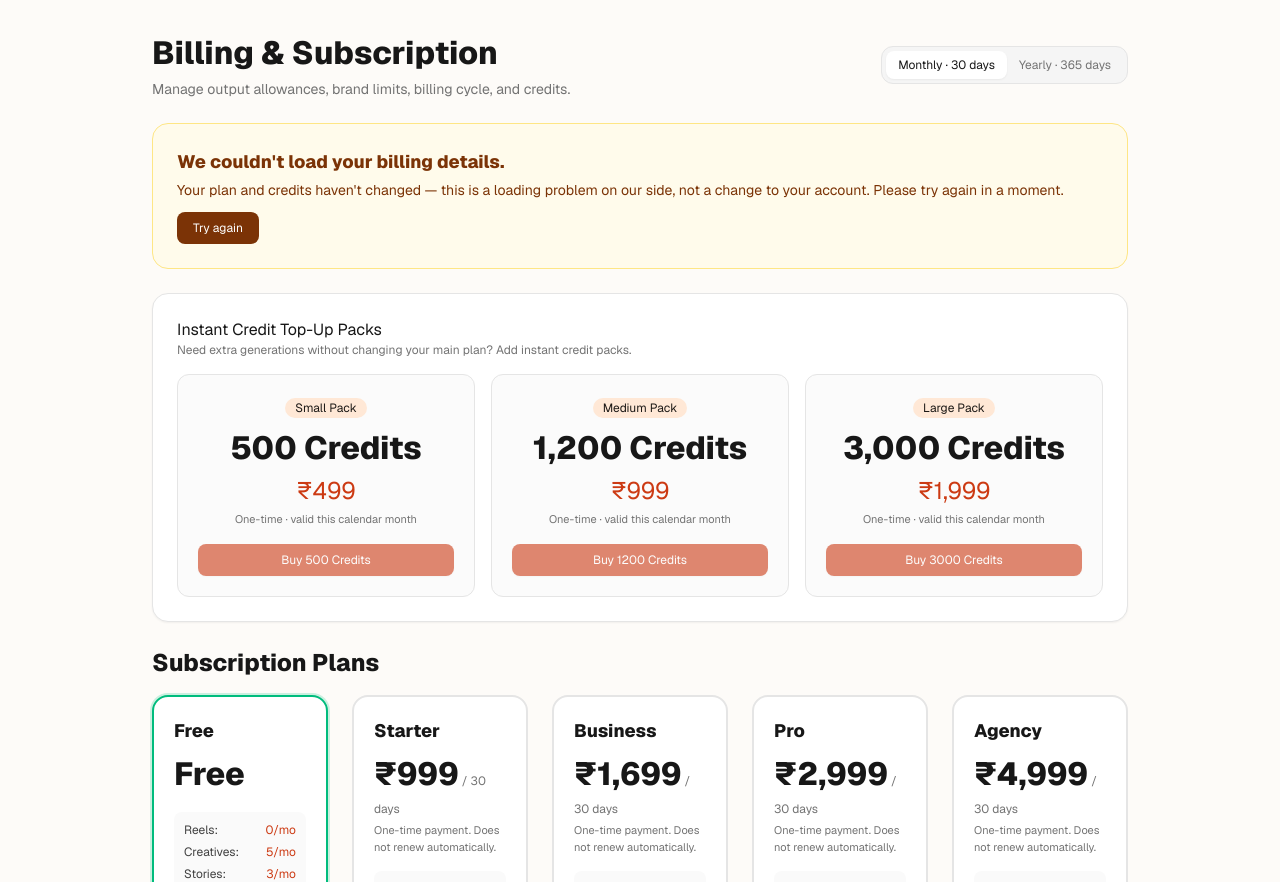
Test: BillingPage — Cashfree pricing & checkout › Firestore read failures are never shown as a Free plan › Try again recovers and then shows the real plan
Click the button "Try again".
click(218, 228)  # box [177, 212, 259, 244]
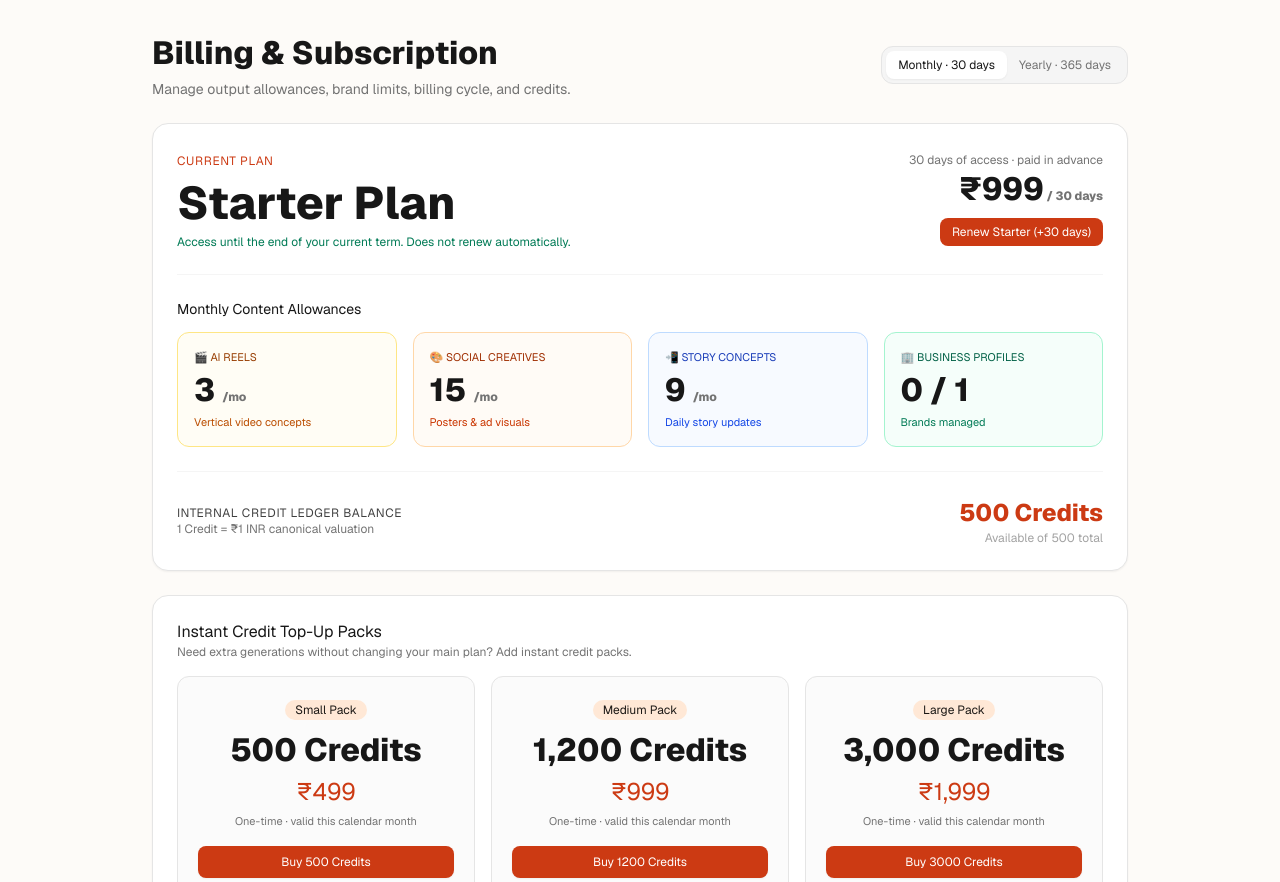
Now the heading "Starter Plan" is shown, box [177, 173, 456, 232]
